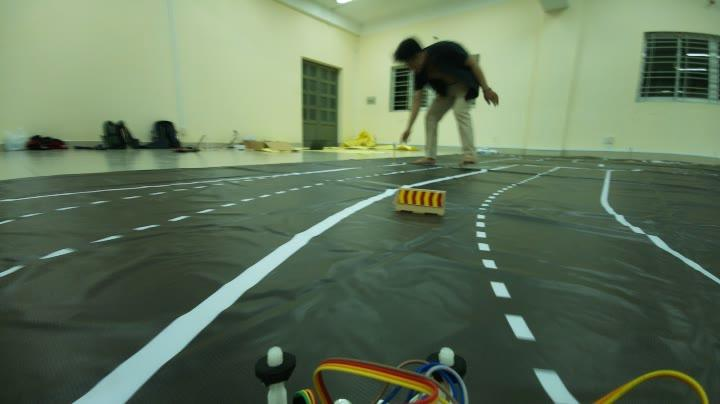roadblock: (392, 186, 450, 219)
